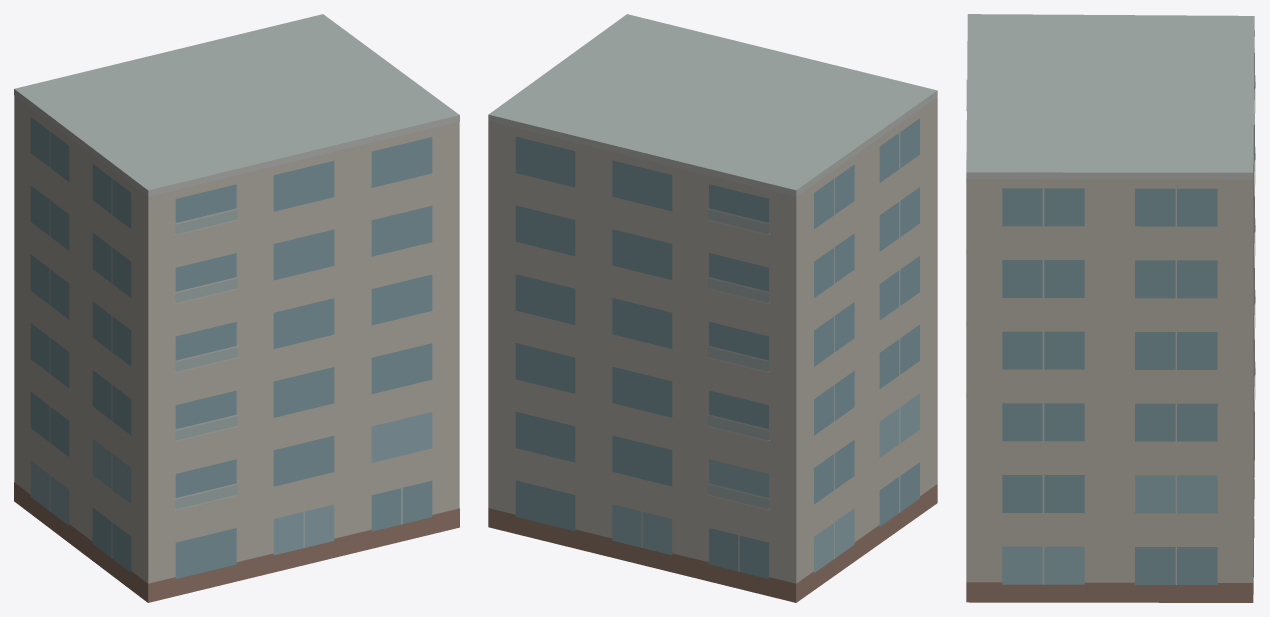
Rendered from survey-upis-32877393.glb.
The picture shows the model from 3 angles, left to right: view 1: azimuth 30°, elevation 25°; view 2: azimuth 150°, elevation 25°; view 3: azimuth 270°, elevation 25°; orthographic projection. The views are drawn at different scales.
Parts seen in each view (by area): view 1: survey-upis-32877393.tmp; view 2: survey-upis-32877393.tmp; view 3: survey-upis-32877393.tmp.
Part boxes in pixels (<box>): survey-upis-32877393.tmp: <box>14,14,459,602</box>; survey-upis-32877393.tmp: <box>488,14,937,602</box>; survey-upis-32877393.tmp: <box>966,14,1255,602</box>.
Bounding box in the file's own units: 12.32 × 15.55 × 9.49.
